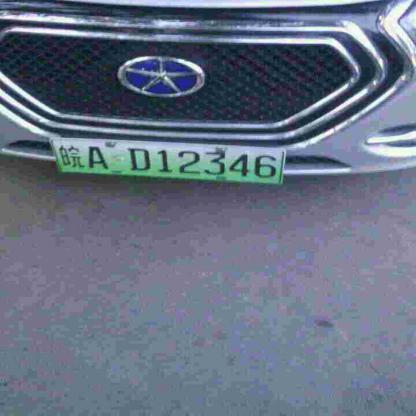lp: (56, 138, 281, 184)
